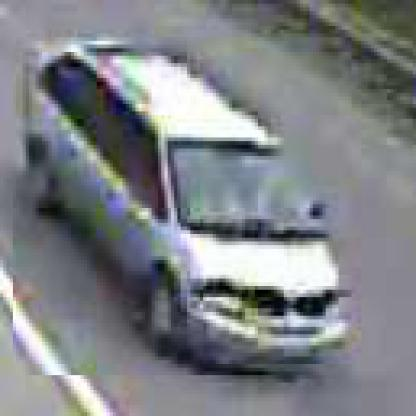car: (14, 38, 356, 380)
